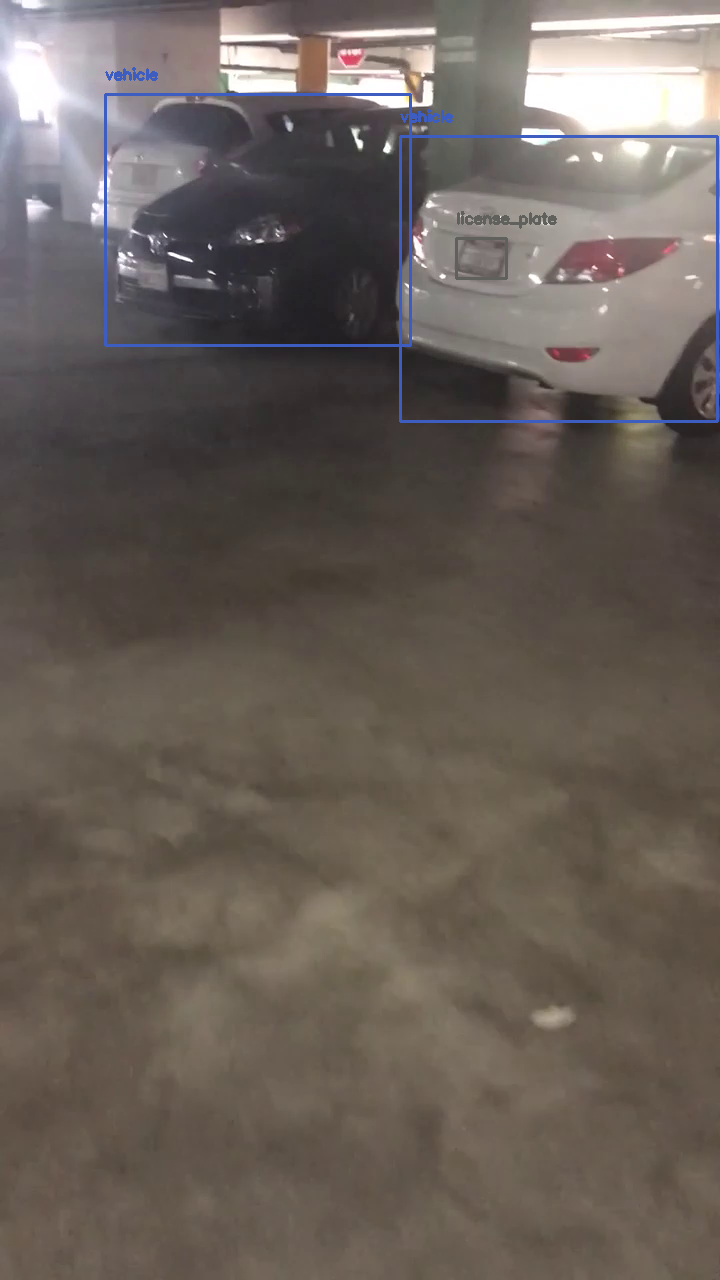license_plate: (456, 238, 506, 278)
vehicle: (400, 136, 717, 421), (105, 94, 410, 345)
